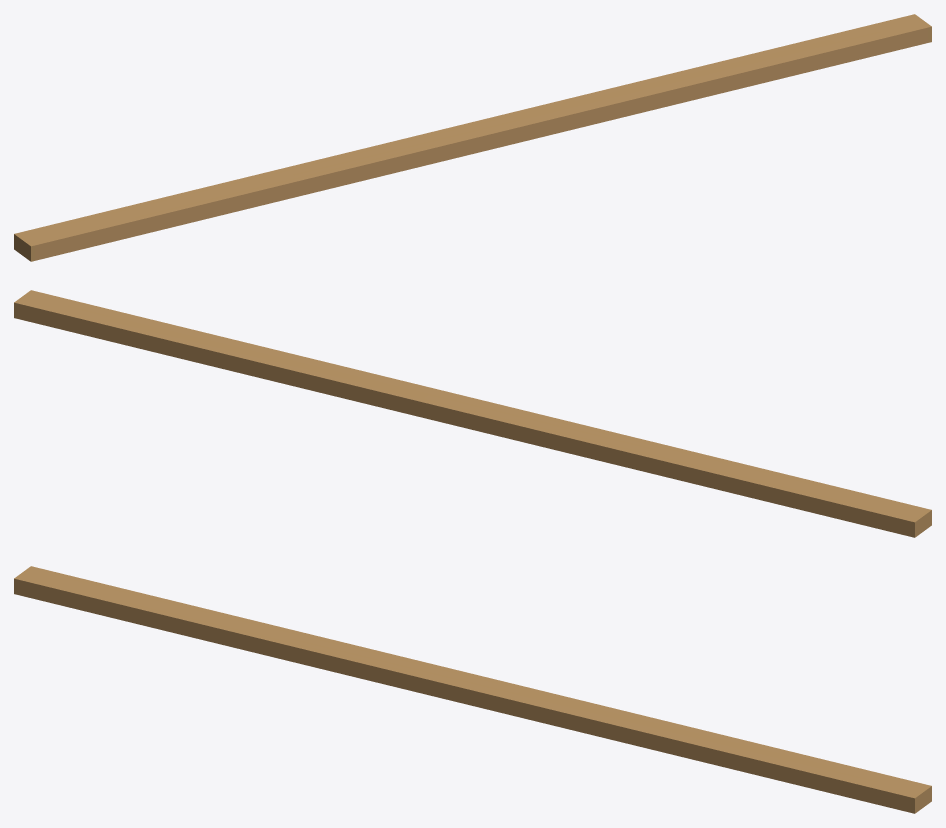
File: plank_long.glb
The picture shows the model from 3 angles, top to bottom: view 1: azimuth 30°, elevation 25°; view 2: azimuth 150°, elevation 25°; view 3: azimuth 330°, elevation 25°; orthographic projection.
Visible parts, largest first — view 1: plank_long:compound; view 2: plank_long:compound; view 3: plank_long:compound.
Boxes of the visible parts, x1,y1,x2,y2 form: plank_long:compound: [14, 14, 931, 261]; plank_long:compound: [14, 290, 931, 537]; plank_long:compound: [14, 566, 931, 813].
Size of the model in its own units: 2.44 by 0.04 by 0.08.
